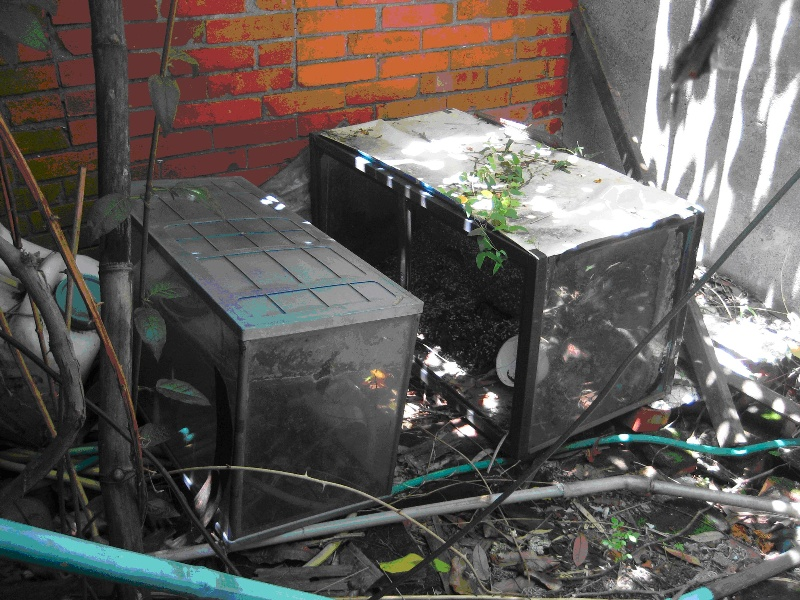aquarium: (308, 105, 706, 459), (130, 175, 426, 545)
